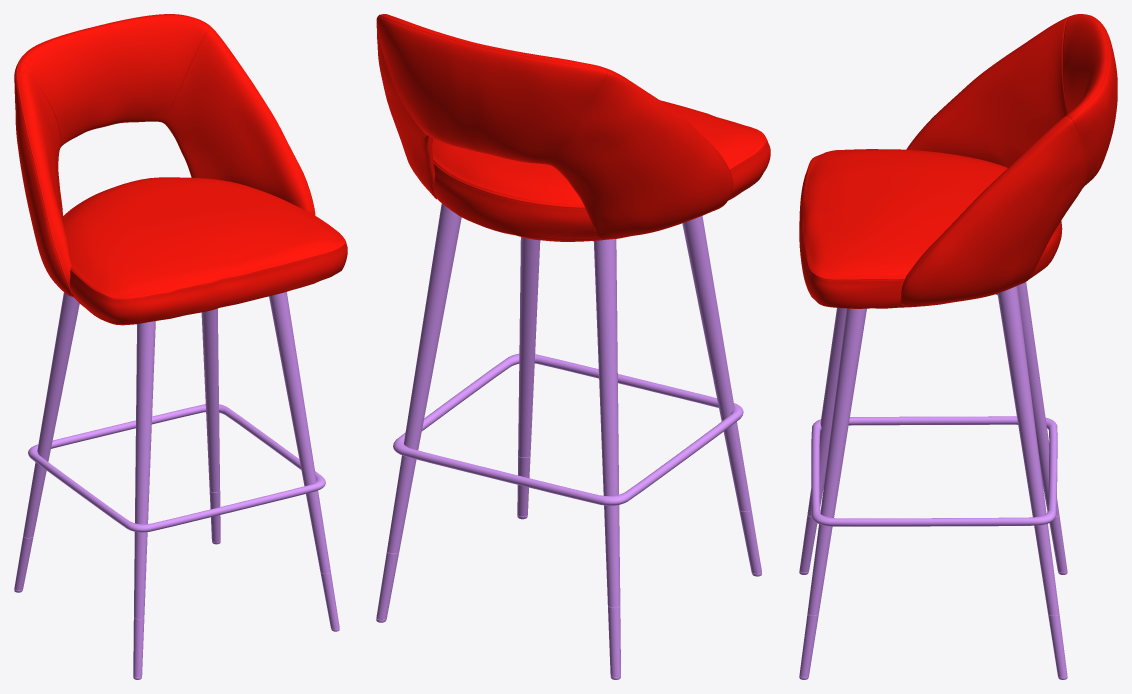
3 views of the same model, side by side, from view 1: azimuth 30°, elevation 25°; view 2: azimuth 150°, elevation 25°; view 3: azimuth 270°, elevation 25° (orthographic). The views are drawn at different scales.
Parts seen in each view (by area): view 1: Plane002_0_0, Box002_0, Cylinder001, Line001; view 2: Plane002_0_0, Cylinder001, Box002_0, Line001; view 3: Plane002_0_0, Box002_0, Cylinder001, Line001.
Part boxes in pixels (x1,y1,x2,y2): Plane002_0_0: [14, 14, 315, 296]; Box002_0: [62, 177, 347, 325]; Cylinder001: [14, 291, 339, 677]; Line001: [28, 404, 325, 532]; Plane002_0_0: [376, 14, 733, 239]; Cylinder001: [376, 203, 761, 676]; Box002_0: [432, 100, 770, 241]; Line001: [393, 353, 743, 505]; Plane002_0_0: [900, 14, 1117, 306]; Box002_0: [799, 149, 1062, 308]; Cylinder001: [799, 282, 1067, 677]; Line001: [811, 416, 1057, 526].
Size of the model in its own units: 530 by 1020 by 515.
